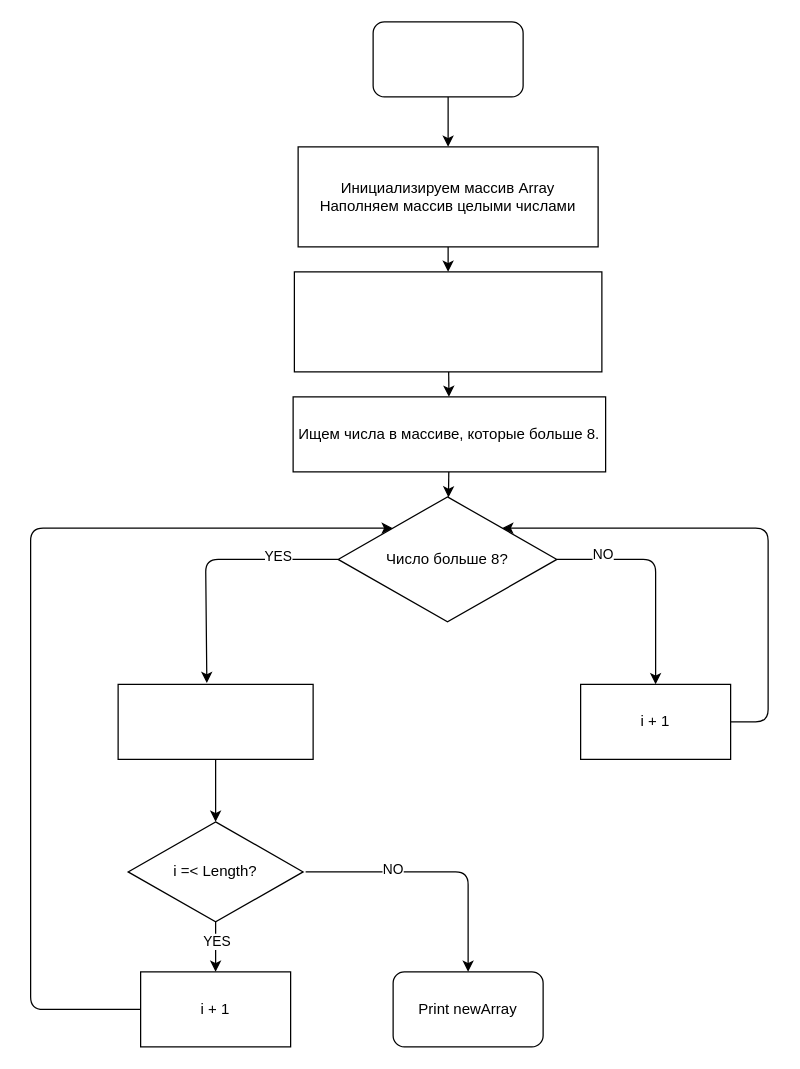
The diagram is 800 pixels wide and 1069 high, and some of its shapes have lost their labels. Here are the shapes that lost their labels. From the top down, the box of each, then its label:
(372, 21, 523, 97): START
(293, 271, 602, 372): Array наполняем рандомными числами index = 0 Length = 10
(117, 683, 313, 759): Записываем число в новый массив -- newArray
